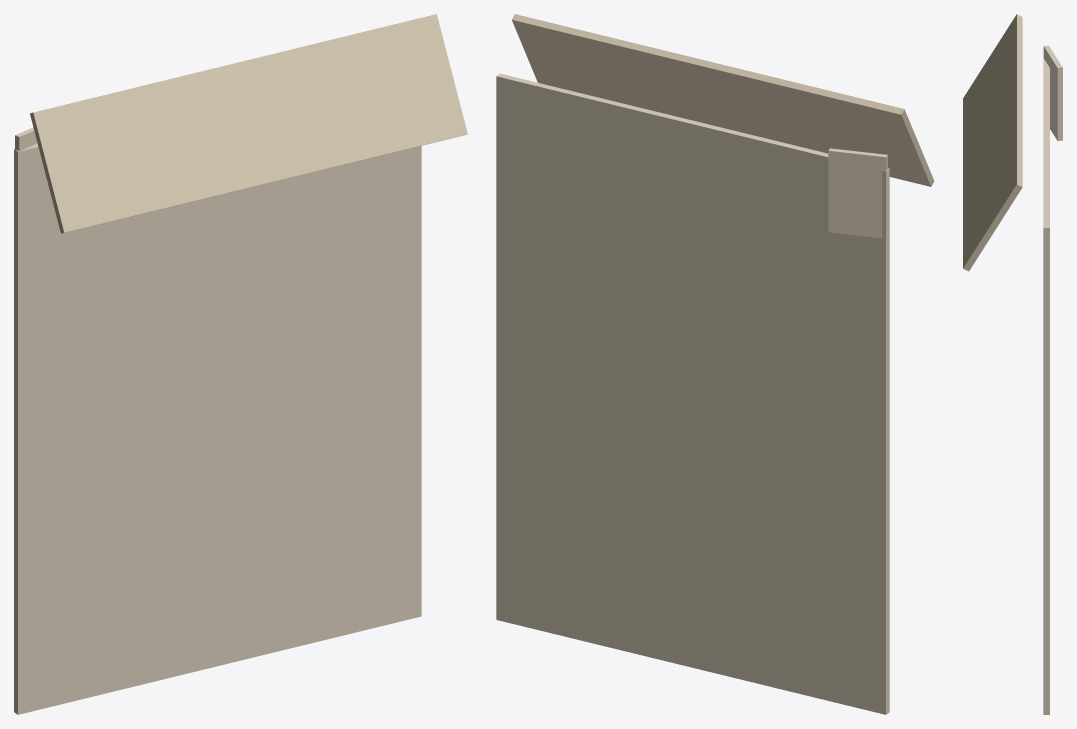
Rendered from prop_peeling_poster.fbx.
The picture shows the model from 3 angles, left to right: view 1: azimuth 30°, elevation 25°; view 2: azimuth 150°, elevation 25°; view 3: azimuth 270°, elevation 25°; orthographic projection. The views are drawn at different scales.
Visible parts, largest first — view 1: Poster_Back, Poster_Curl; view 2: Poster_Back, Poster_Curl, Poster_Tear; view 3: Poster_Curl, Poster_Back, Poster_Tear.
Part boxes in pixels (x1,y1,x2,y2): Poster_Back: (14, 143, 421, 714); Poster_Curl: (30, 14, 467, 233); Poster_Back: (496, 73, 889, 714); Poster_Curl: (512, 14, 934, 186); Poster_Tear: (828, 148, 887, 238); Poster_Curl: (963, 14, 1022, 271); Poster_Back: (1043, 58, 1049, 714); Poster_Tear: (1043, 45, 1062, 140).
Size of the model in its own units: 30 by 43.59 by 7.43.
